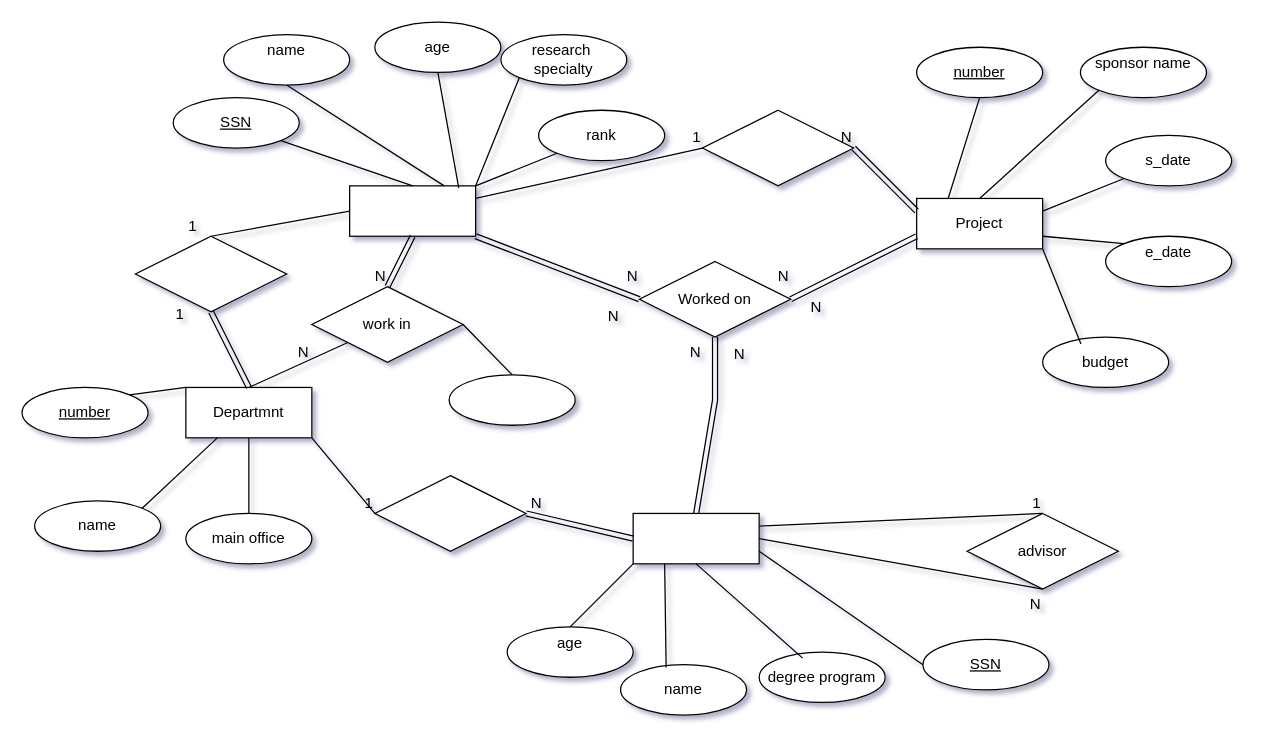
This 1261x745 diagram has some shape labels left out. The centre of each missing label's shape, as x and y in pixels:
"Major" goes at (450,512).
"Manage" goes at (777,147).
"Professor" goes at (412,210).
"run" goes at (210,273).
"Student" goes at (695,538).
"working time" goes at (511,399).
